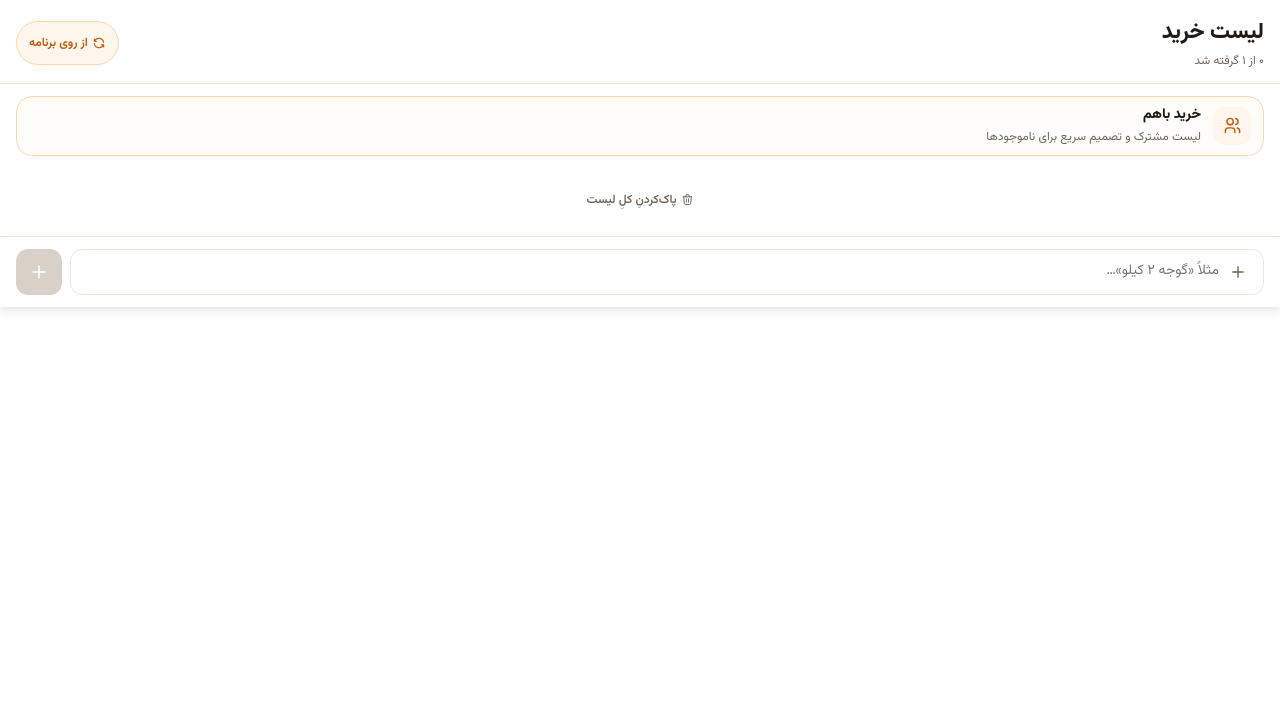
Test: ShoppingListPage smoke › keeps a truthful removal summary visible when no active plan exists
This screenshot has width=1280, height=720.
Click the button "از روی برنامه". click: click(67, 43)
box: [16,21,119,65]
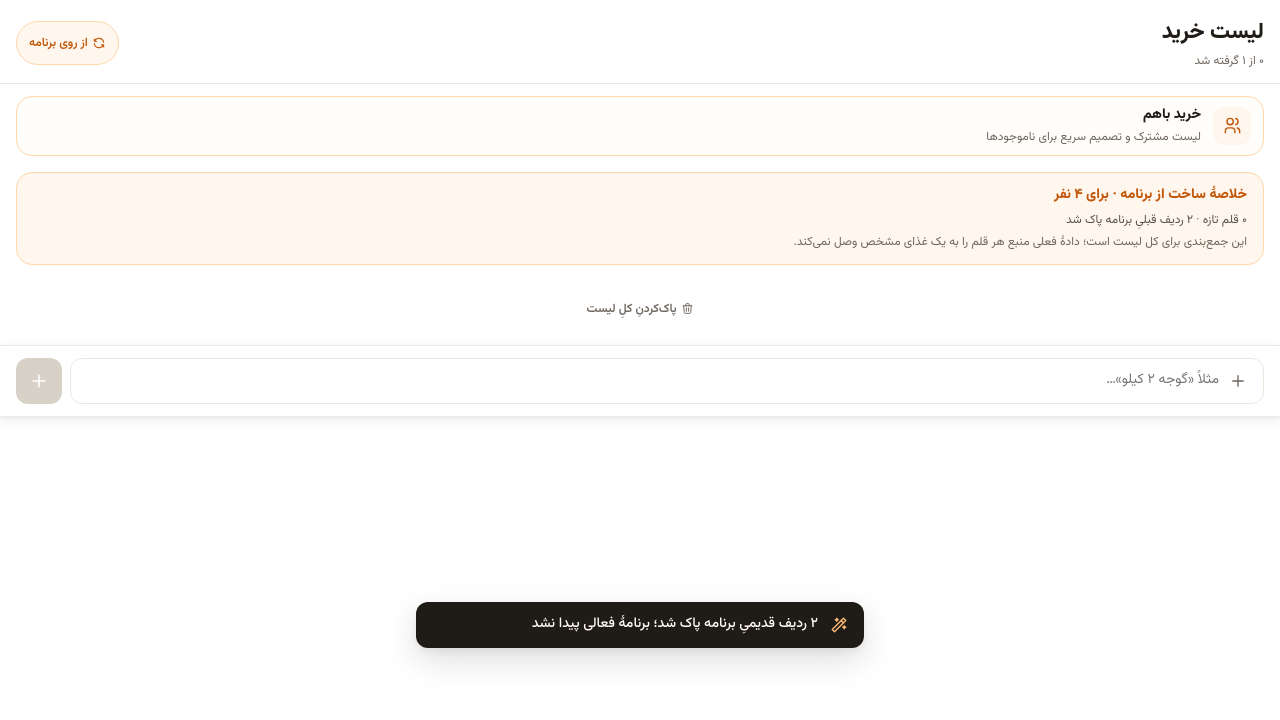
Now the text "۰ قلم تازه · ۲ ردیف قبلیِ برنامه پاک شد" is shown, box [1066,211,1247,229]
Now the text "۲ ردیف قدیمیِ برنامه پاک شد؛ برنامهٔ فعالی پیدا نشد" is shown, box [532,613,818,635]
